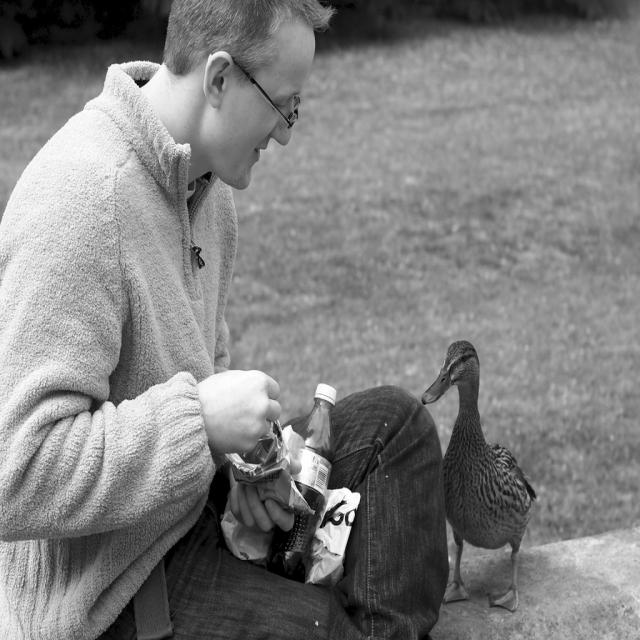Glasses: (210, 68, 304, 119)
